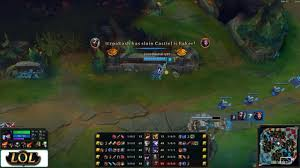bar: (140, 55, 176, 64)
